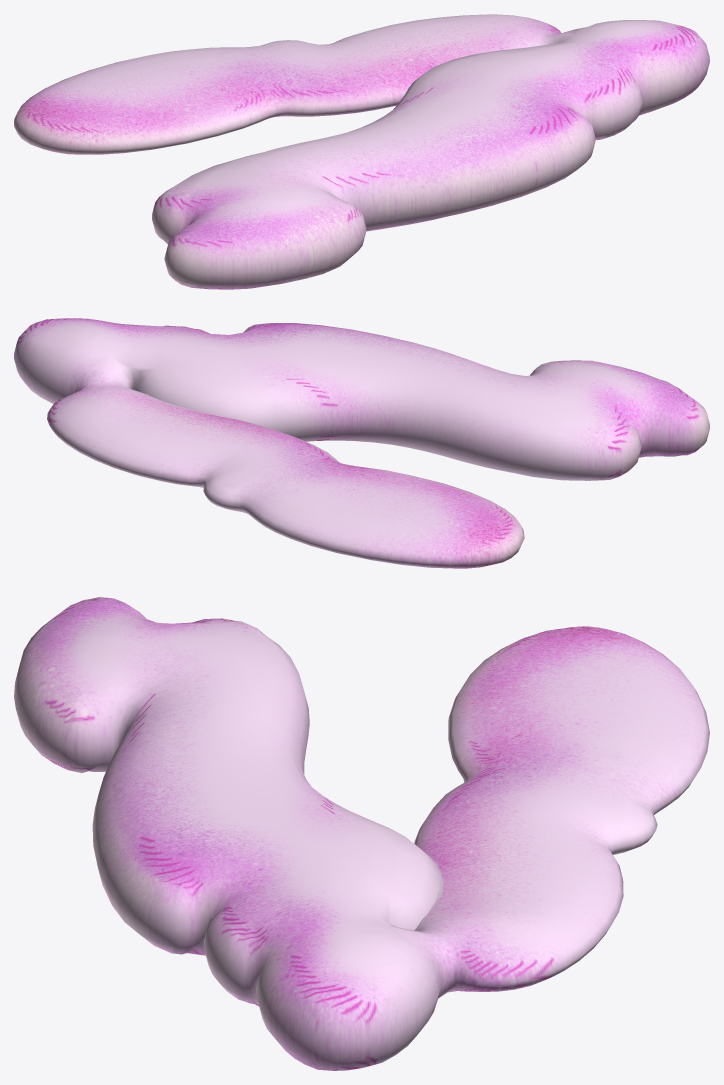
The model's file is Cloud_C_ADD.obj.
The picture shows the model from 3 angles, top to bottom: view 1: azimuth 30°, elevation 25°; view 2: azimuth 150°, elevation 25°; view 3: azimuth 270°, elevation 25°; orthographic projection. The views are drawn at different scales.
Visible parts, largest first — view 1: Cloud_C_ADD; view 2: Cloud_C_ADD; view 3: Cloud_C_ADD.
Boxes of the visible parts, bbox=[...] form: Cloud_C_ADD: bbox=[14, 14, 709, 289]; Cloud_C_ADD: bbox=[14, 318, 709, 568]; Cloud_C_ADD: bbox=[14, 597, 709, 1070].
Bounding box in the file's own units: 1.15 × 0.1338 × 0.7908.
Materials: 1 (1 with a texture image).
